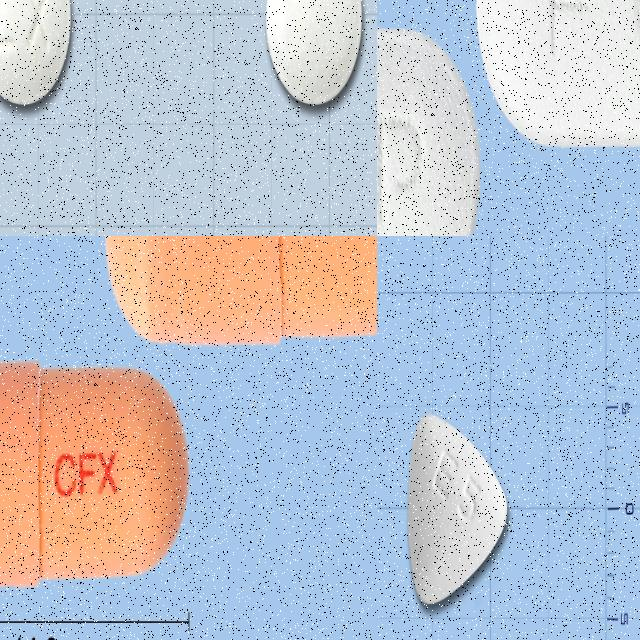Entecabell - 1mg: (408, 413, 508, 604)
Famcivir: (475, 0, 640, 146), (377, 27, 481, 236)
Levoxacin -250mg: (266, 0, 363, 106), (0, 0, 72, 106)
NT-fixime Cap: (0, 360, 189, 589), (104, 236, 377, 349)
